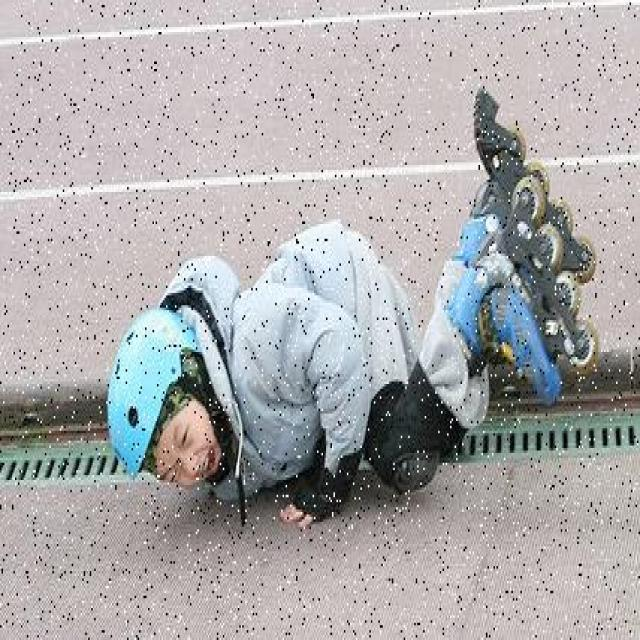fall: (110, 222, 484, 507)
